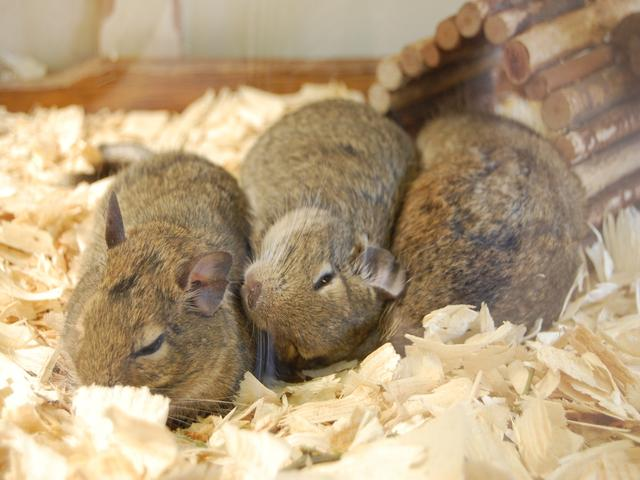mouse: (387, 97, 618, 427), (230, 62, 458, 391), (25, 129, 262, 443)
